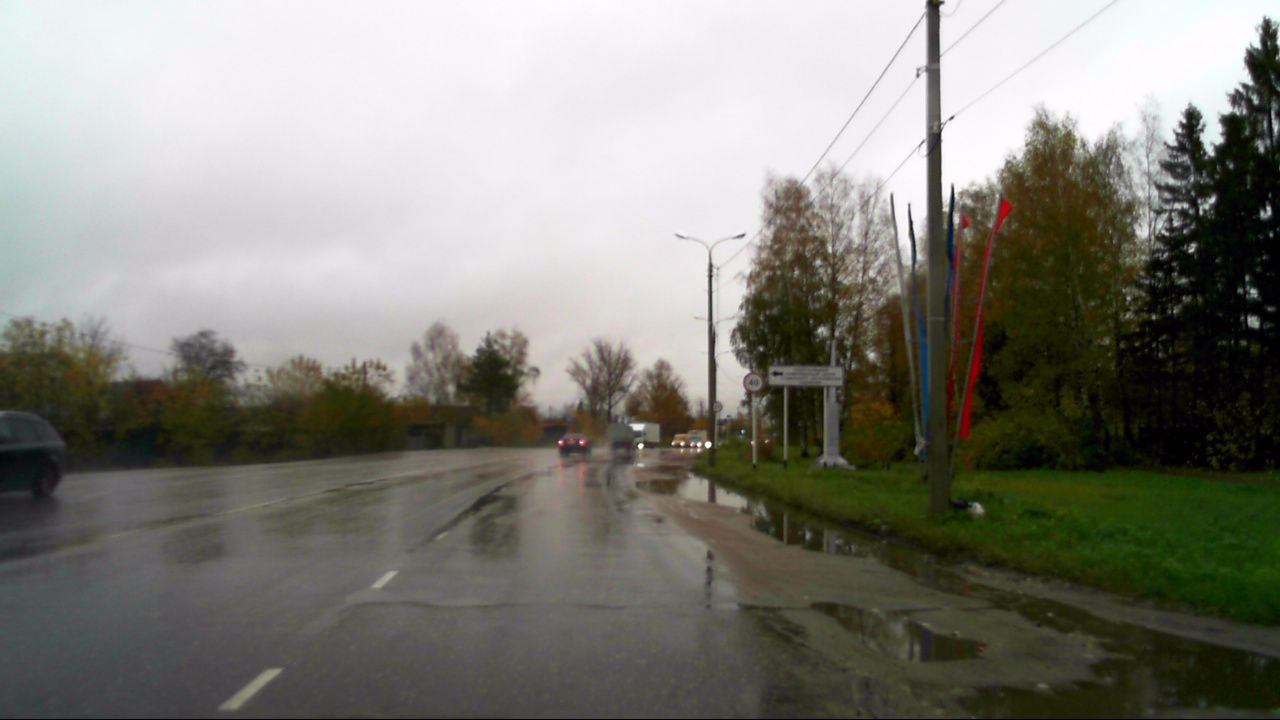speed_warning_40: (742, 370, 765, 393)
